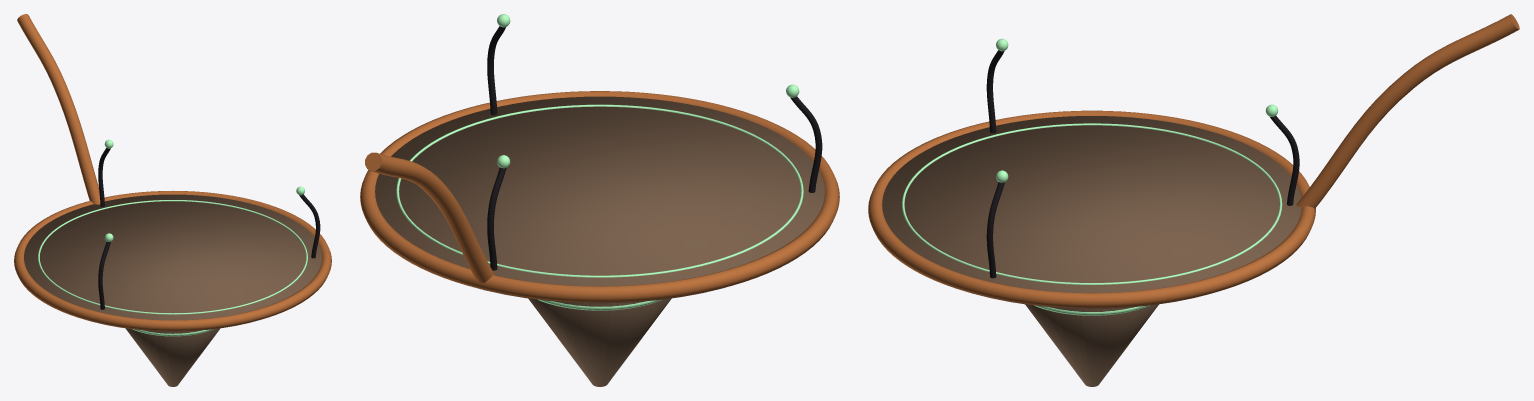
File: forschungsplattform.obj
3 views of the same model, side by side, from view 1: azimuth 30°, elevation 25°; view 2: azimuth 150°, elevation 25°; view 3: azimuth 270°, elevation 25° (orthographic). The views are drawn at different scales.
Visible parts, largest first — view 1: Forschungsplattform; view 2: Forschungsplattform; view 3: Forschungsplattform.
Part boxes in pixels (x1,y1,x2,y2): Forschungsplattform: [14, 14, 331, 386]; Forschungsplattform: [360, 14, 839, 386]; Forschungsplattform: [868, 14, 1519, 386].
Bounding box in the file's own units: 49.8 × 45.27 × 72.46.
